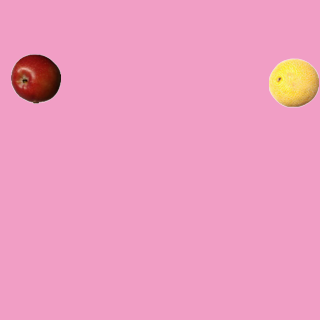Apple Braeburn: (10, 53, 60, 103)
Cantaloupe 1: (268, 57, 318, 107)
